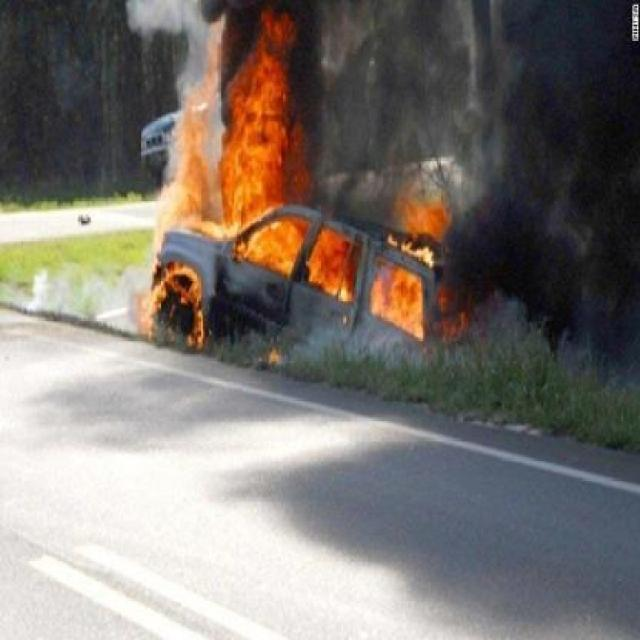Fire: (149, 99, 477, 388)
Smoke: (487, 54, 640, 228)
